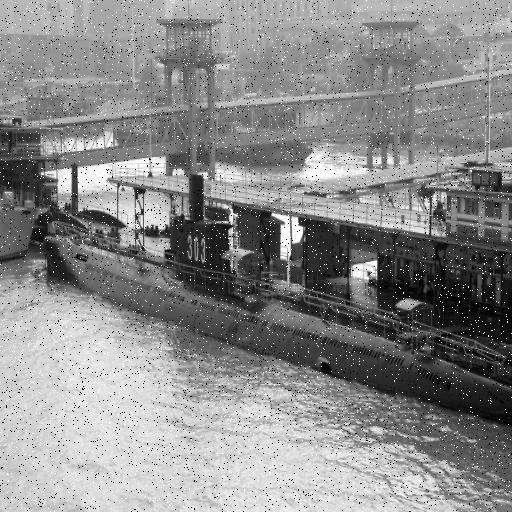submarine: (44, 174, 512, 434)
